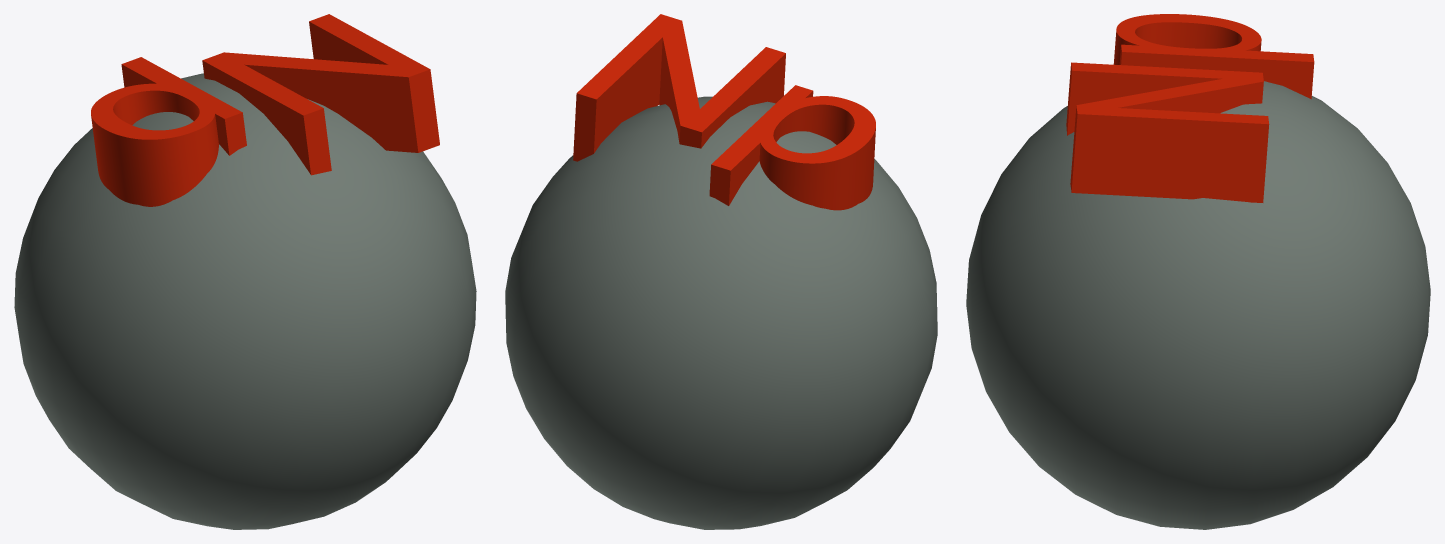
The picture shows the model from 3 angles, left to right: view 1: azimuth 30°, elevation 25°; view 2: azimuth 150°, elevation 25°; view 3: azimuth 270°, elevation 25°; orthographic projection. The views are drawn at different scales.
Visible parts, largest first — view 1: Np; view 2: Np; view 3: Np.
Boxes of the visible parts, bbox=[...] form: Np: bbox=[14, 14, 476, 529]; Np: bbox=[505, 14, 937, 529]; Np: bbox=[966, 14, 1430, 529].
Size of the model in its own units: 38.63 by 41.83 by 38.71.
